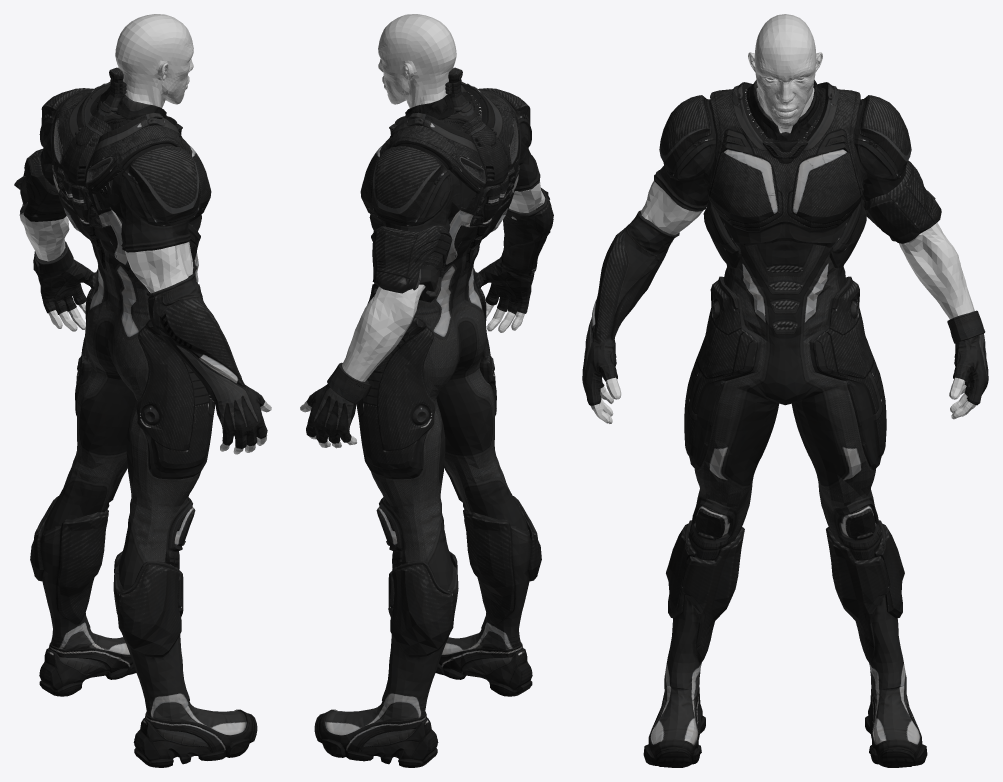
File: enemy.obj
3 views of the same model, side by side, from view 1: azimuth 30°, elevation 25°; view 2: azimuth 150°, elevation 25°; view 3: azimuth 270°, elevation 25° (orthographic). The views are drawn at different scales.
Visible parts, largest first — view 1: Object.1; view 2: Object.1; view 3: Object.1.
Boxes of the visible parts, bbox=[...] form: Object.1: bbox=[14, 14, 271, 767]; Object.1: bbox=[300, 14, 553, 767]; Object.1: bbox=[582, 14, 988, 767].
Size of the model in its own units: 26.65 by 134 by 67.17.
